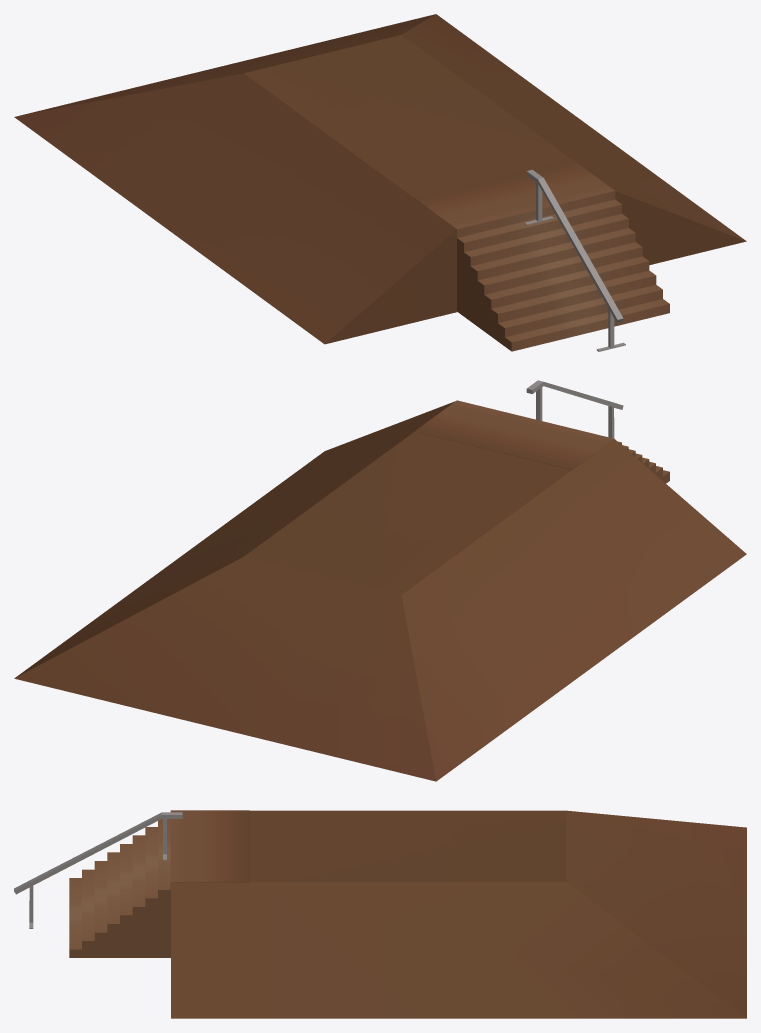
File: SkateboardPyramidStairsetHandrail.glb
3 views of the same model, one above another, from view 1: azimuth 30°, elevation 25°; view 2: azimuth 150°, elevation 25°; view 3: azimuth 270°, elevation 25° (orthographic). The views are drawn at different scales.
Visible parts, largest first — view 1: SkateboardPyramidStairsetHandrail; view 2: SkateboardPyramidStairsetHandrail; view 3: SkateboardPyramidStairsetHandrail.
Boxes of the visible parts, x1=… form: SkateboardPyramidStairsetHandrail: x1=14, y1=14, x2=746, y2=351; SkateboardPyramidStairsetHandrail: x1=14, y1=380, x2=746, y2=781; SkateboardPyramidStairsetHandrail: x1=14, y1=810, x2=746, y2=1018.
Size of the model in its own units: 10.68 by 2.85 by 17.33.
1 material, 1 textured.
